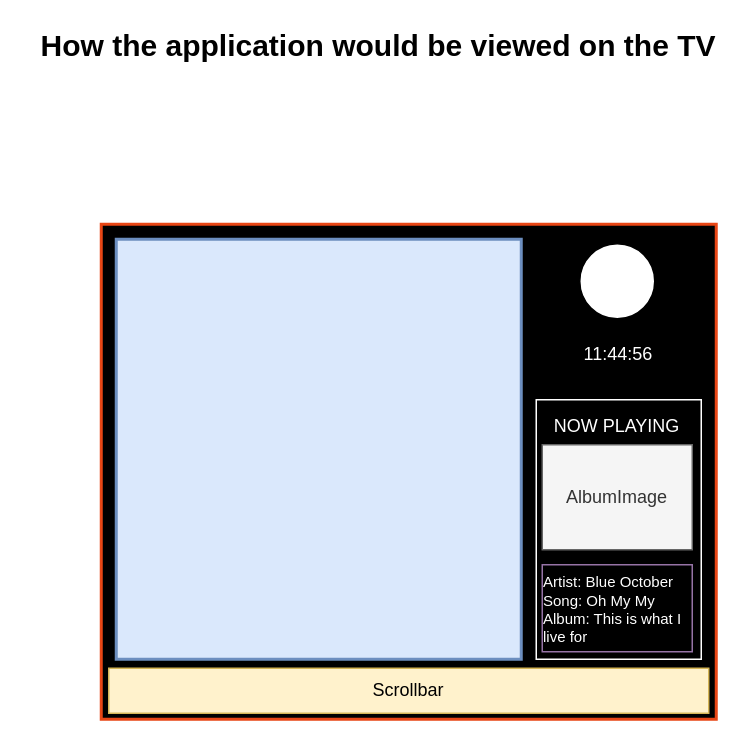
Some shapes in this 756 by 746 pixel diagram are drawn without their labels. The centre of each missing label's shape, as x and y in pixels:
"AdDisplay" belongs at point (318, 448).
"Logo" belongs at point (616, 280).
